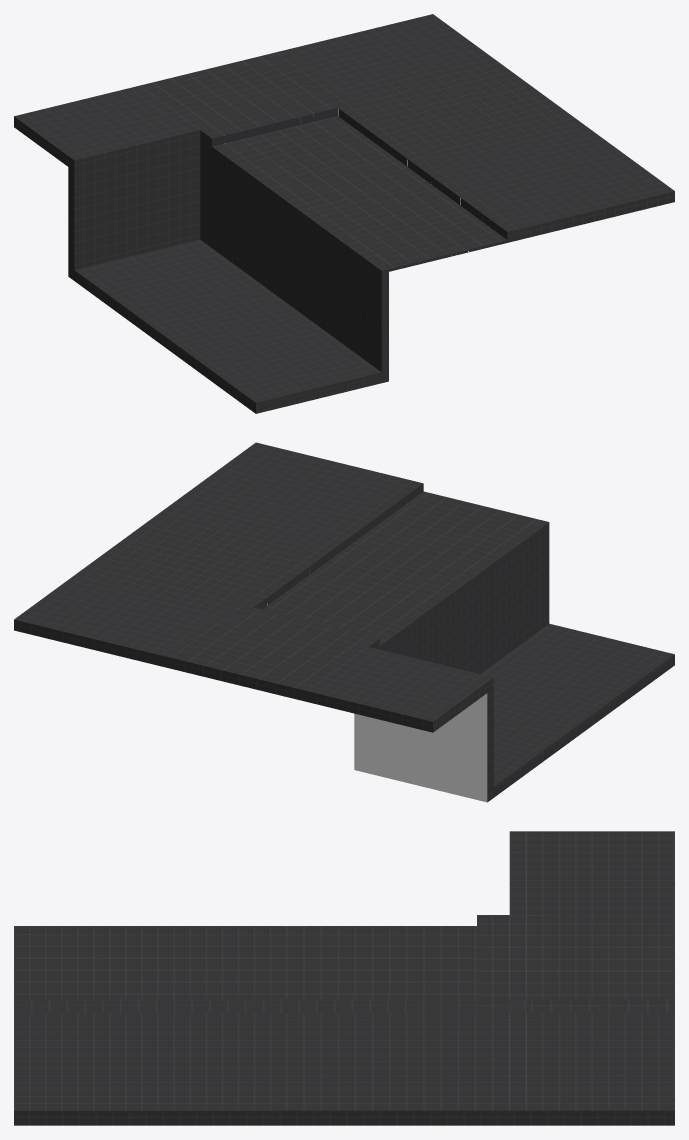
File: ConstructFloor-col.GLB
3 renders of one model, top to bottom at view 1: azimuth 30°, elevation 25°; view 2: azimuth 150°, elevation 25°; view 3: azimuth 270°, elevation 25°, orthographic. The views are drawn at different scales.
Visible parts, largest first — view 1: ConstructFloor-col; view 2: ConstructFloor-col; view 3: ConstructFloor-col.
Part boxes in pixels (left/top/right/bottom): ConstructFloor-col: left=14, top=14, right=674, bottom=413; ConstructFloor-col: left=14, top=442, right=674, bottom=802; ConstructFloor-col: left=14, top=831, right=674, bottom=1125.
Size of the model in its own units: 40 by 11 by 40.
1 material, 1 textured.
